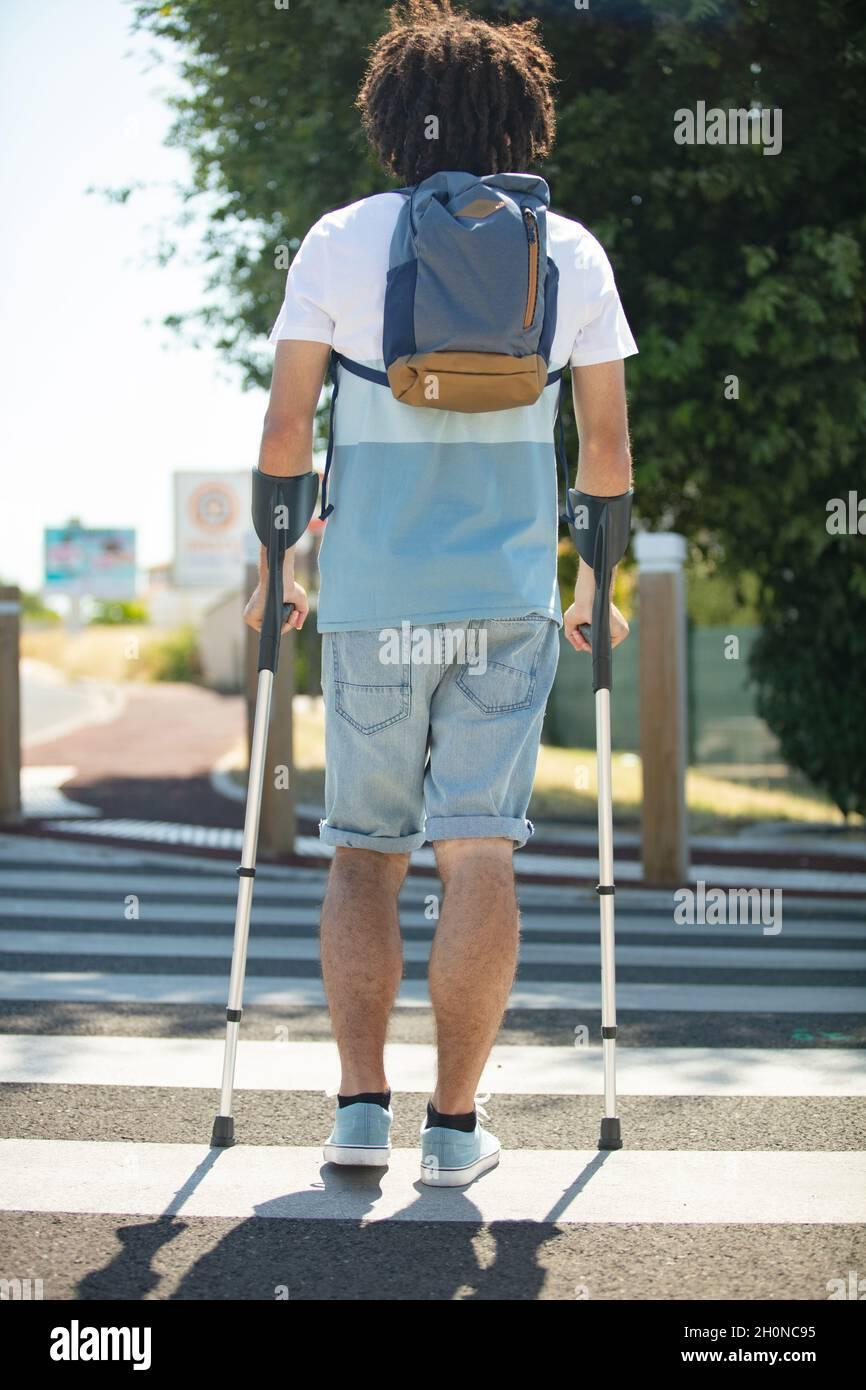crutches: (210, 0, 636, 1182)
